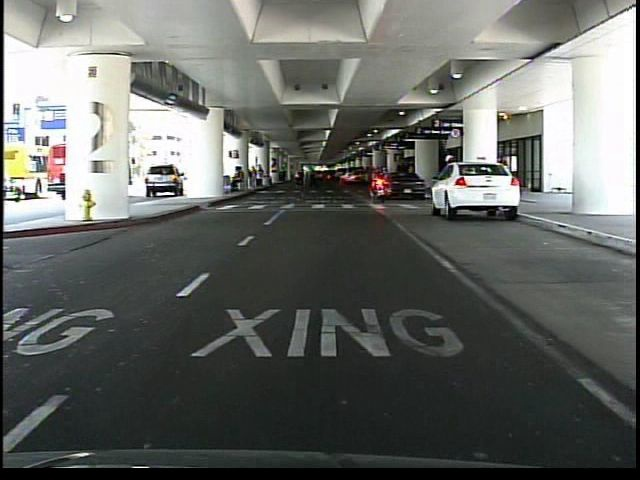person: (440, 151, 457, 213)
